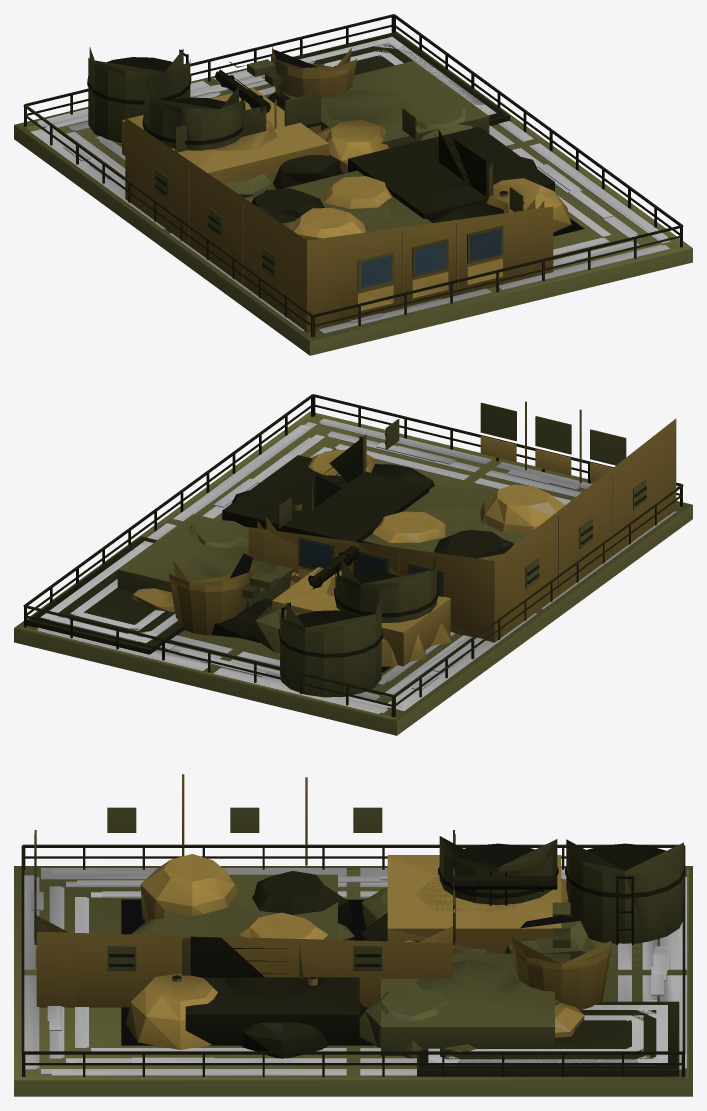
File: meridian_refinery_heavily_damaged.glb
3 views of the same model, one above another, from view 1: azimuth 30°, elevation 25°; view 2: azimuth 150°, elevation 25°; view 3: azimuth 270°, elevation 25° (orthographic). The views are drawn at different scales.
Visible parts, largest first — view 1: body (×3); view 2: body (×3); view 3: body (×3).
Boxes of the visible parts, x1,y1,x2,y2 form: body (×3): (14,14,692,355); body (×3): (14,394,692,735); body (×3): (14,774,692,1096).
Bounding box in the file's own units: 11.2 × 2.98 × 15.
